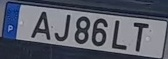6: (91, 17, 108, 47)
8: (74, 15, 90, 44)
A: (29, 10, 51, 40)
J: (54, 14, 71, 42)
L: (111, 19, 127, 50)
T: (132, 21, 150, 52)
